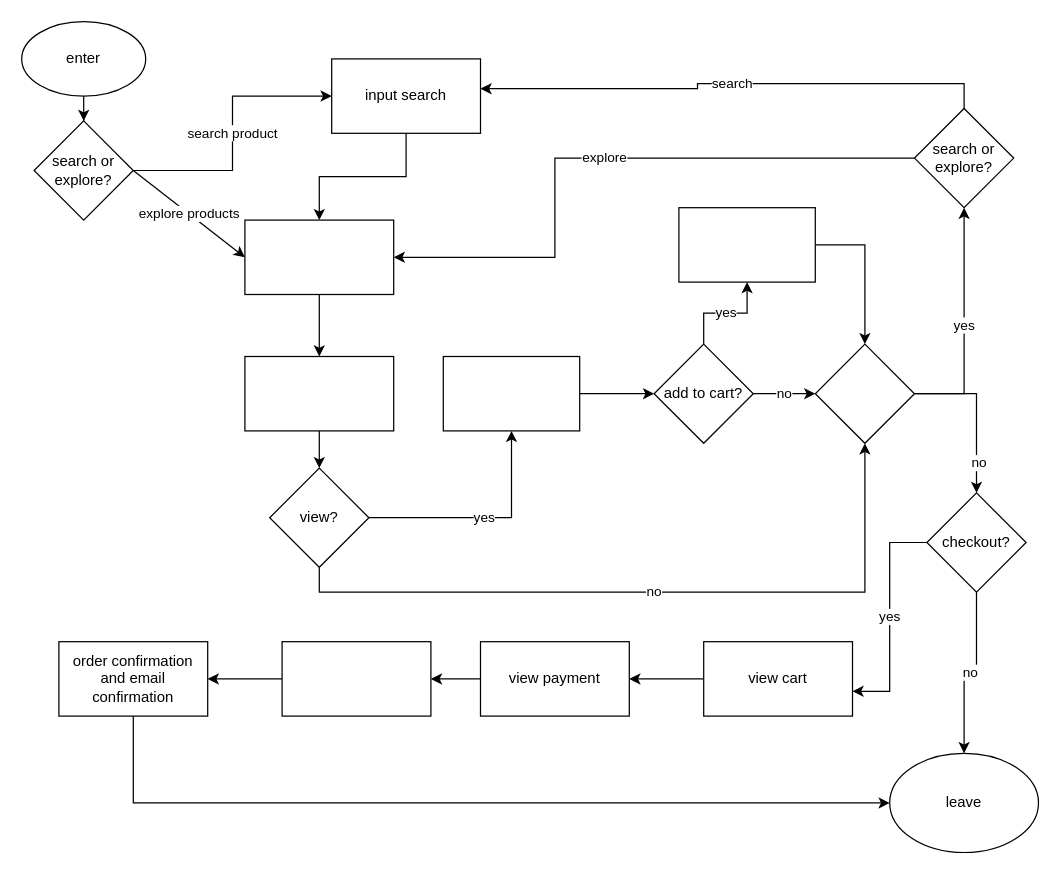
This 1060x874 diagram has some shape labels left out. Here are the shapes that lost their labels. From the top down, the centre of each, then its label:
the point at 319,256: products
the point at 746,244: added to cart confirmation
the point at 319,393: specific product
the point at 511,393: product's own page
the point at 864,393: continue shopping?
the point at 356,678: payment information
